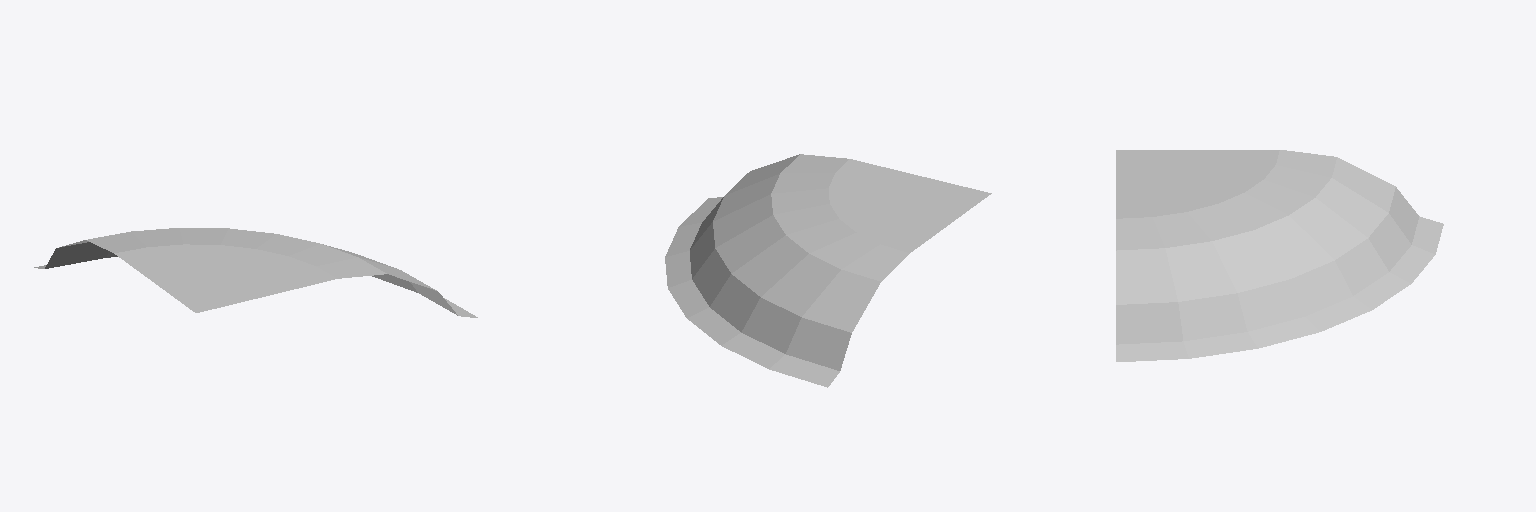
Rendered from Track_Normal_Curve_Inner_2x2.obj.
3 views of the same model, side by side, from view 1: azimuth 30°, elevation 25°; view 2: azimuth 150°, elevation 25°; view 3: azimuth 270°, elevation 25° (orthographic).
Parts seen in each view (by area): view 1: object1; view 2: object1; view 3: object1.
Part boxes in pixels (x1,y1,x2,y2): object1: (34, 228, 477, 317); object1: (665, 154, 991, 387); object1: (1116, 150, 1443, 361).
Bounding box in the file's own units: 2 × 0.5 × 2.